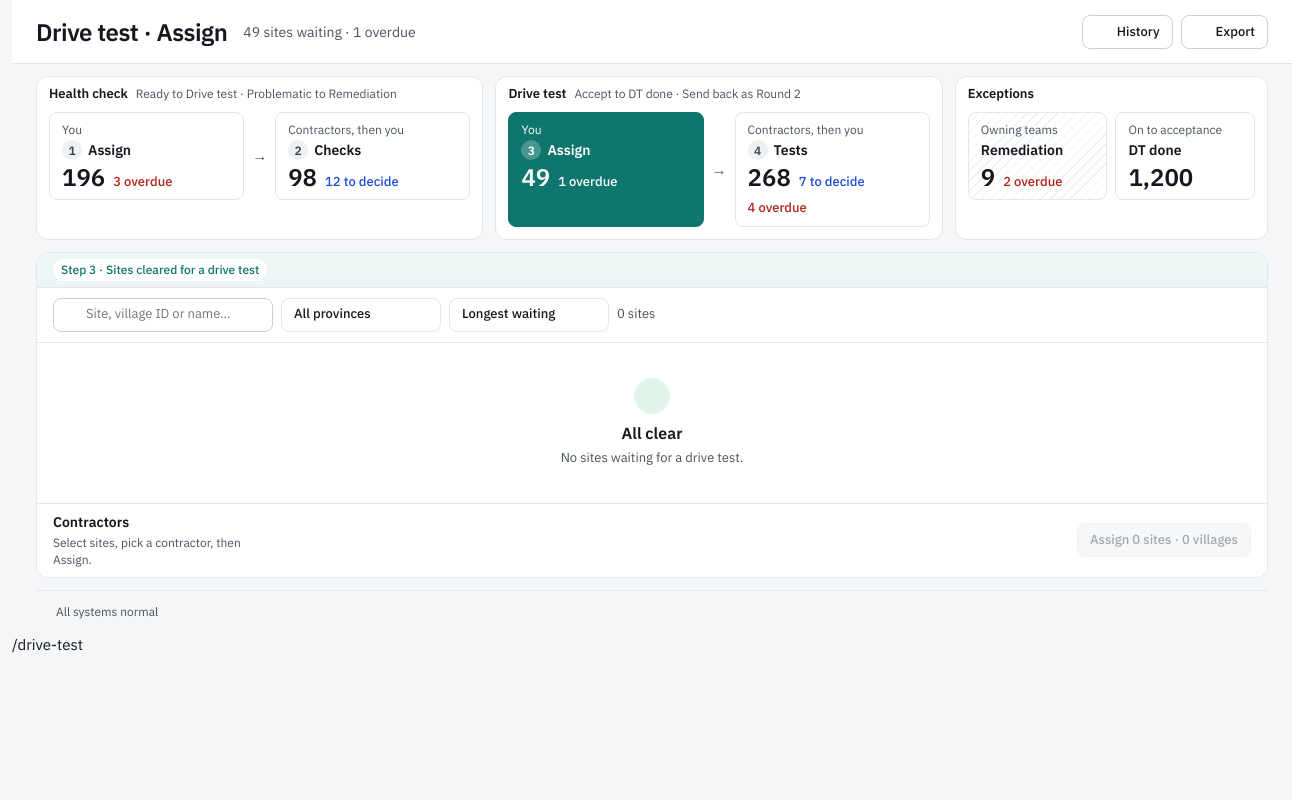
Test case: the heading and the strip › opens History from the heading, marked as the current view
Click the button "History" at (1127, 32), box [1082, 15, 1173, 49]
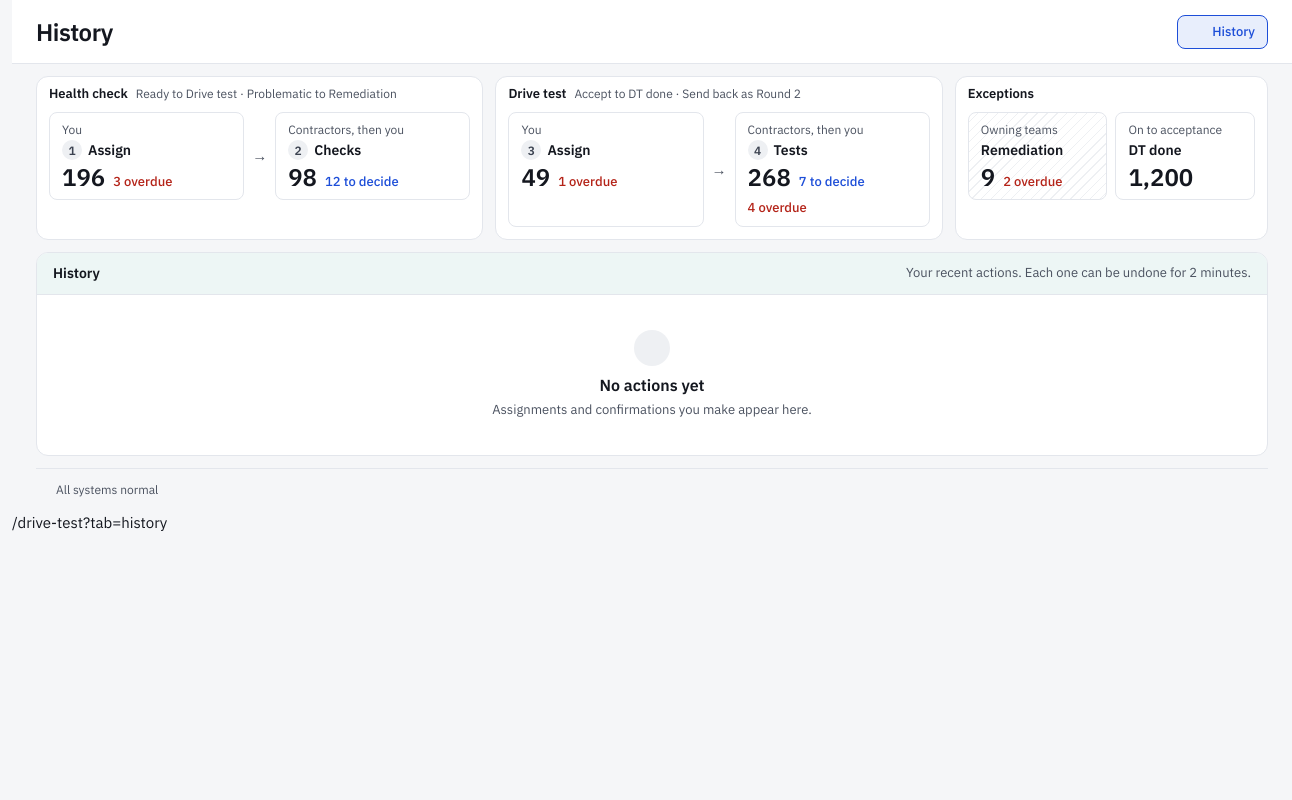
expect the text with test id "where" reads "/drive-test?tab=history": met, box [12, 513, 167, 532]
